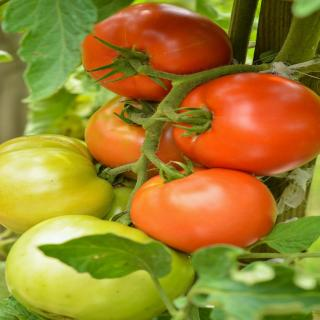tomato: (5, 212, 206, 320), (78, 0, 233, 108), (168, 74, 320, 174), (128, 165, 280, 253), (0, 134, 112, 236), (83, 96, 194, 179)
